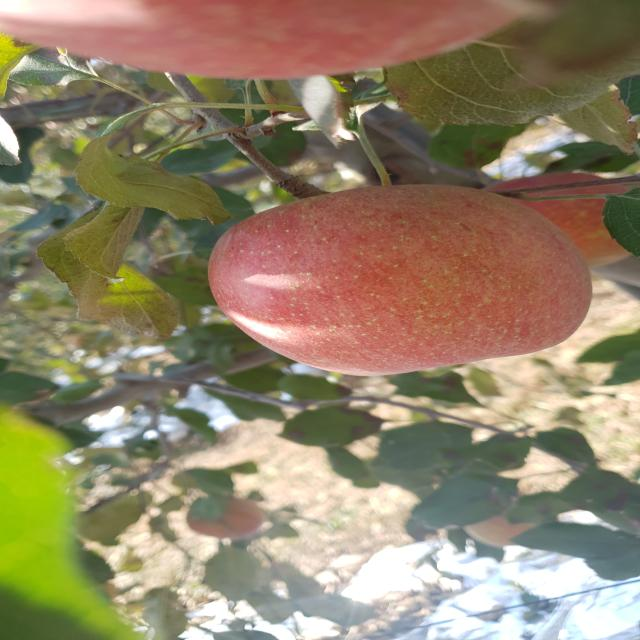fresh: (202, 171, 608, 382)
